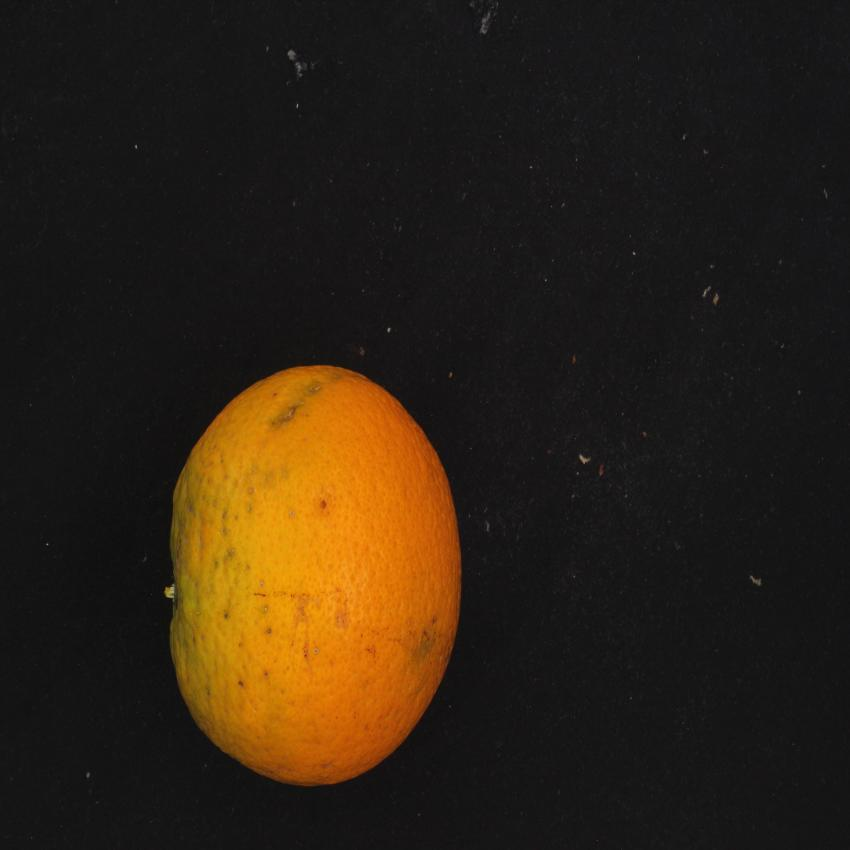Buen estado: (162, 357, 481, 798)
